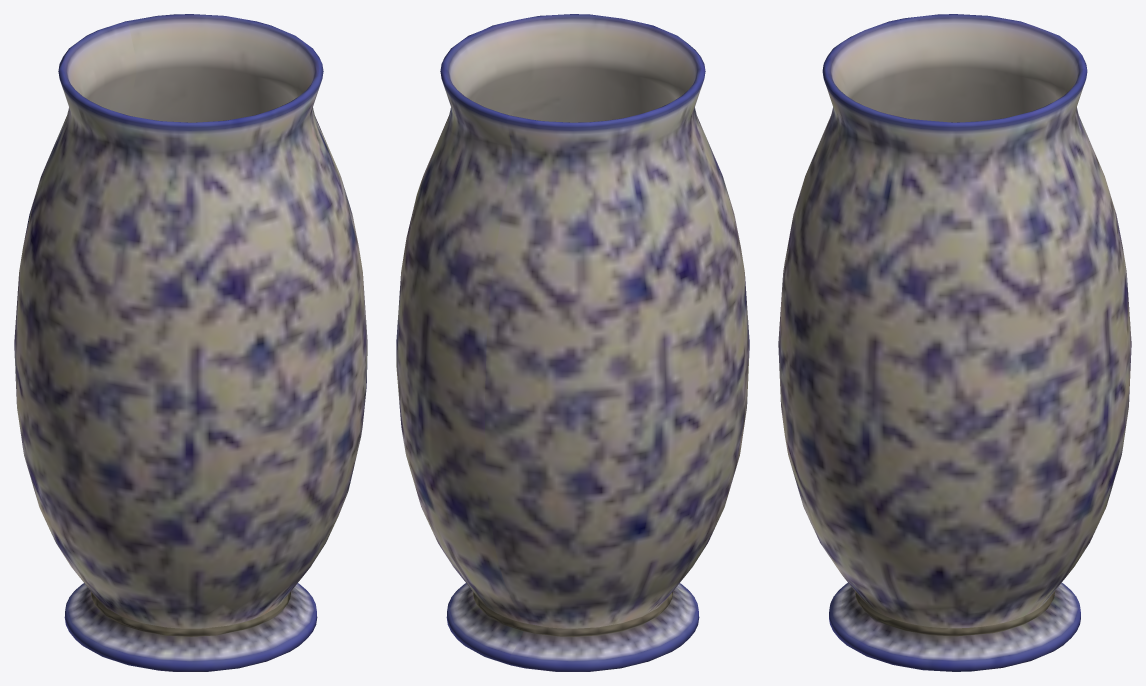
The model's file is antique_ceramic_vase_01.glb.
The picture shows the model from 3 angles, left to right: view 1: azimuth 30°, elevation 25°; view 2: azimuth 150°, elevation 25°; view 3: azimuth 270°, elevation 25°; orthographic projection.
Parts seen in each view (by area): view 1: antique_ceramic_vase_01; view 2: antique_ceramic_vase_01; view 3: antique_ceramic_vase_01.
Boxes of the visible parts, bbox=[...] form: antique_ceramic_vase_01: bbox=[14, 14, 367, 671]; antique_ceramic_vase_01: bbox=[396, 14, 749, 671]; antique_ceramic_vase_01: bbox=[778, 14, 1131, 671].
Size of the model in its own units: 0.255 by 0.4396 by 0.255.
Materials: 1 (1 with a texture image).
